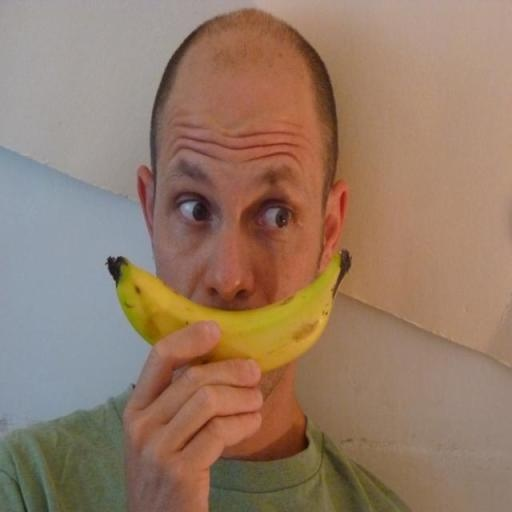fruit: (107, 250, 351, 371)
